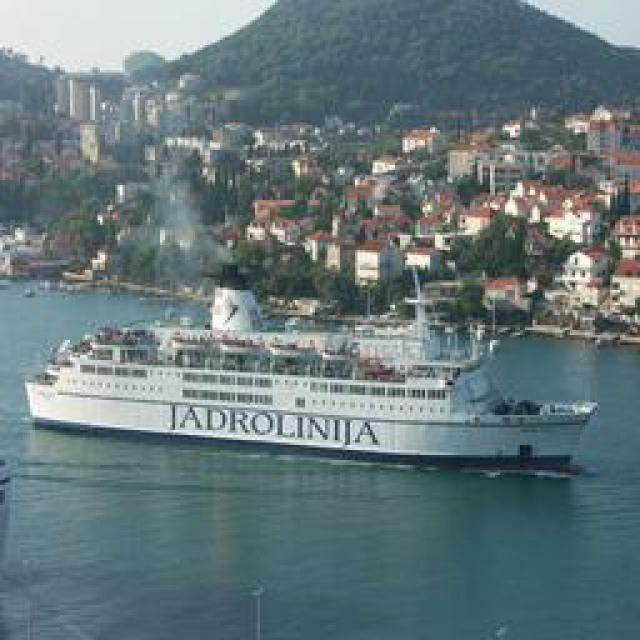Ship: (18, 297, 626, 475)
